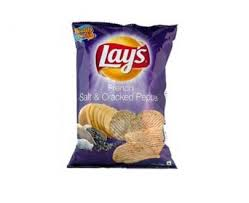lays-med: (70, 24, 176, 166)
